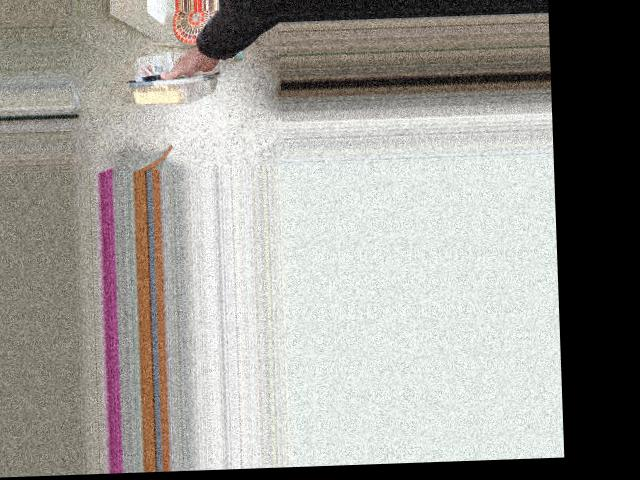cheese: (134, 29, 236, 128)
